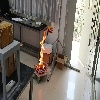fire: (38, 30, 46, 70)
